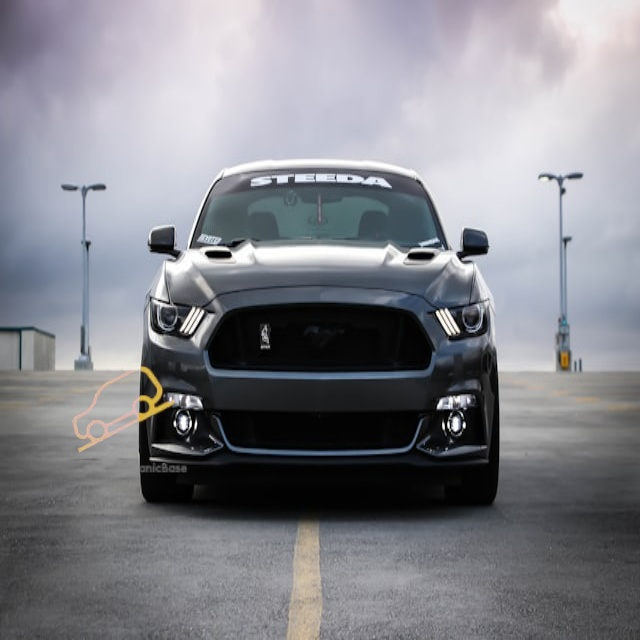symbol: (57, 344, 192, 479)
